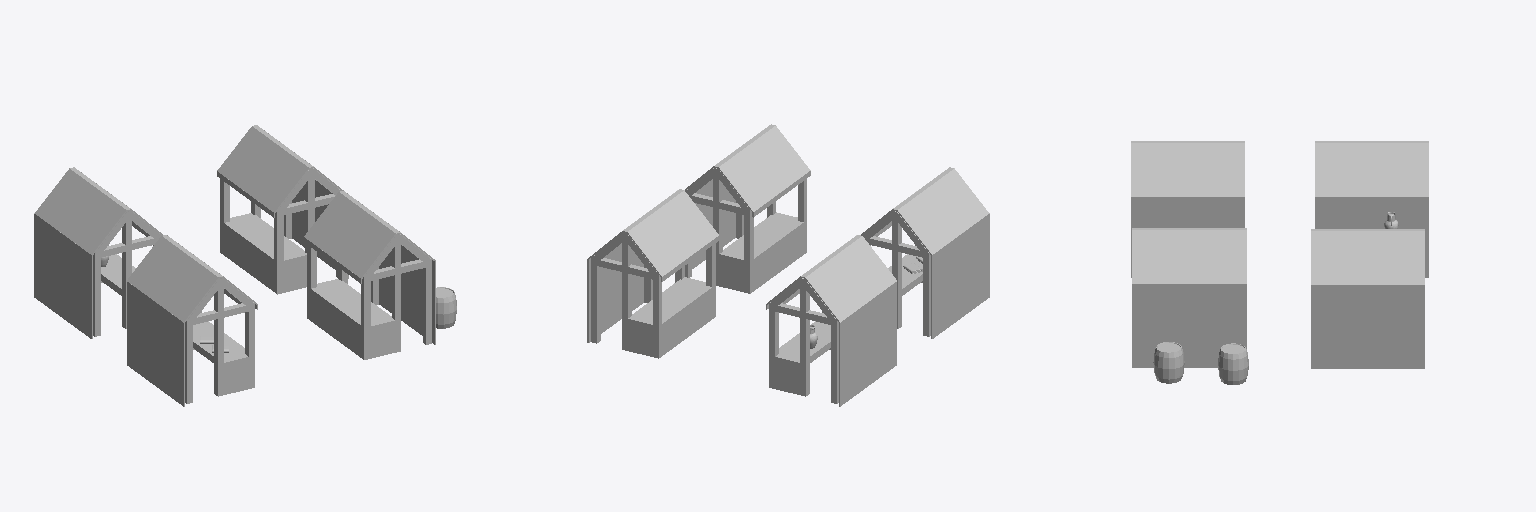
Rendered from market_white_blue.obj.
3 renders of one model, left to right at view 1: azimuth 30°, elevation 25°; view 2: azimuth 150°, elevation 25°; view 3: azimuth 270°, elevation 25°, orthographic.
Parts seen in each view (by area): view 1: Cube.060_Cube.235, Cube.156_Cube.225, Cube.052_Cube.004, Cube.056_Cube.178, Cube.147_Cube.153, Cube.001_Cube.064, Barrel1.001; view 2: Cube.156_Cube.225, Cube.060_Cube.235, Cube.056_Cube.178, Cube.052_Cube.004, Cube.001_Cube.064, Cube.147_Cube.153, Cube.025_Cube.001, Cube.057_Cube.179; view 3: Cube.156_Cube.225, Cube.060_Cube.235, Cube.001_Cube.064, Cube.147_Cube.153, Barrel1.001, Barrel1.
Boxes of the visible parts, x1,y1,x2,y2 form: Cube.060_Cube.235: [127, 235, 257, 406]; Cube.156_Cube.225: [34, 167, 162, 338]; Cube.052_Cube.004: [309, 234, 431, 359]; Cube.056_Cube.178: [222, 168, 340, 294]; Cube.147_Cube.153: [379, 250, 435, 344]; Cube.001_Cube.064: [292, 184, 348, 278]; Barrel1.001: [436, 287, 456, 328]; Cube.156_Cube.225: [766, 235, 896, 406]; Cube.060_Cube.235: [861, 167, 989, 338]; Cube.056_Cube.178: [591, 232, 715, 356]; Cube.052_Cube.004: [685, 168, 806, 292]; Cube.001_Cube.064: [587, 248, 643, 342]; Cube.147_Cube.153: [692, 184, 735, 268]; Cube.025_Cube.001: [744, 210, 753, 293]; Cube.057_Cube.179: [653, 275, 661, 358]; Cube.156_Cube.225: [1315, 141, 1428, 277]; Cube.060_Cube.235: [1131, 141, 1244, 277]; Cube.001_Cube.064: [1311, 285, 1424, 368]; Cube.147_Cube.153: [1132, 284, 1246, 367]; Barrel1.001: [1153, 342, 1184, 383]; Barrel1: [1218, 343, 1248, 384].
Size of the model in its own units: 9.51 by 3.73 by 8.36.